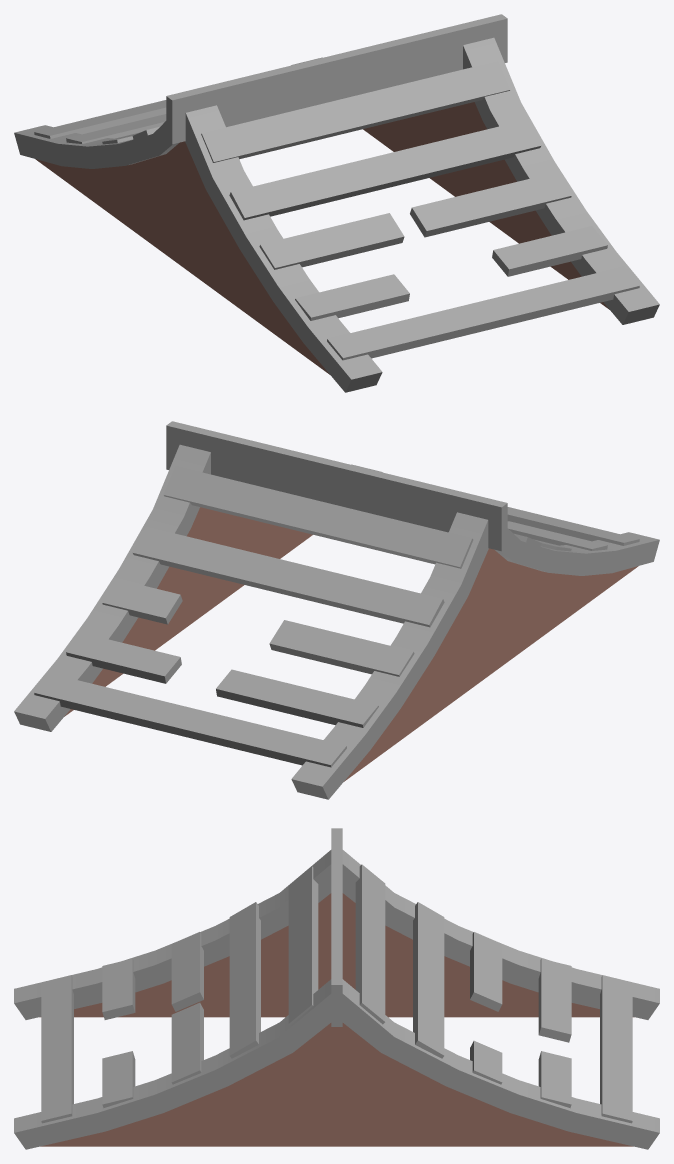
The model's file is TechoGrande3.fbx.
3 views of the same model, one above another, from view 1: azimuth 30°, elevation 25°; view 2: azimuth 150°, elevation 25°; view 3: azimuth 270°, elevation 25° (orthographic). The views are drawn at different scales.
Parts seen in each view (by area): view 1: polySurface1082, polySurface1098; view 2: polySurface1082, polySurface1098; view 3: polySurface1082, polySurface1098.
Boxes of the visible parts, x1,y1,x2,y2 form: polySurface1082: [14, 14, 659, 392]; polySurface1098: [35, 102, 609, 374]; polySurface1082: [14, 421, 659, 799]; polySurface1098: [64, 507, 638, 781]; polySurface1082: [14, 828, 659, 1149]; polySurface1098: [39, 893, 634, 1146].
Bounding box in the file's own units: 2.66 × 1.36 × 4.64.
